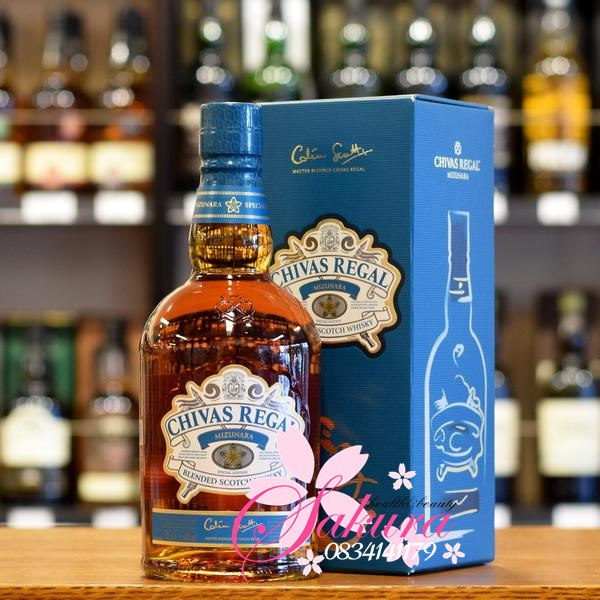Chivas Regal: (123, 91, 335, 591)
